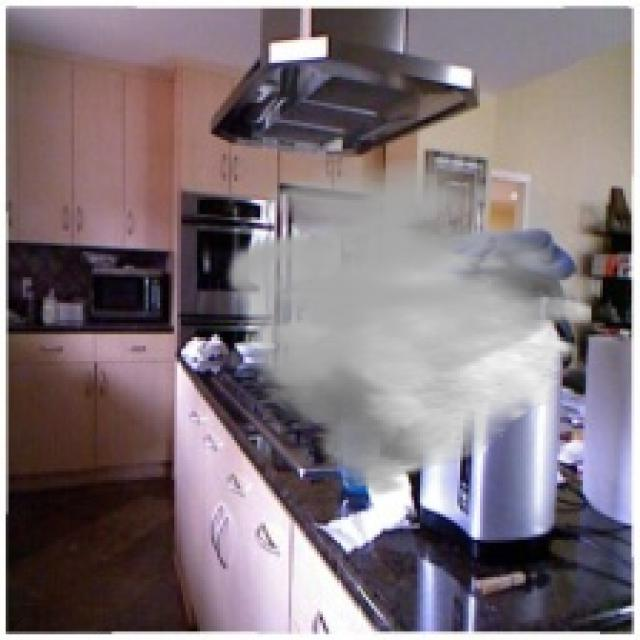smoke: (220, 154, 591, 497)
